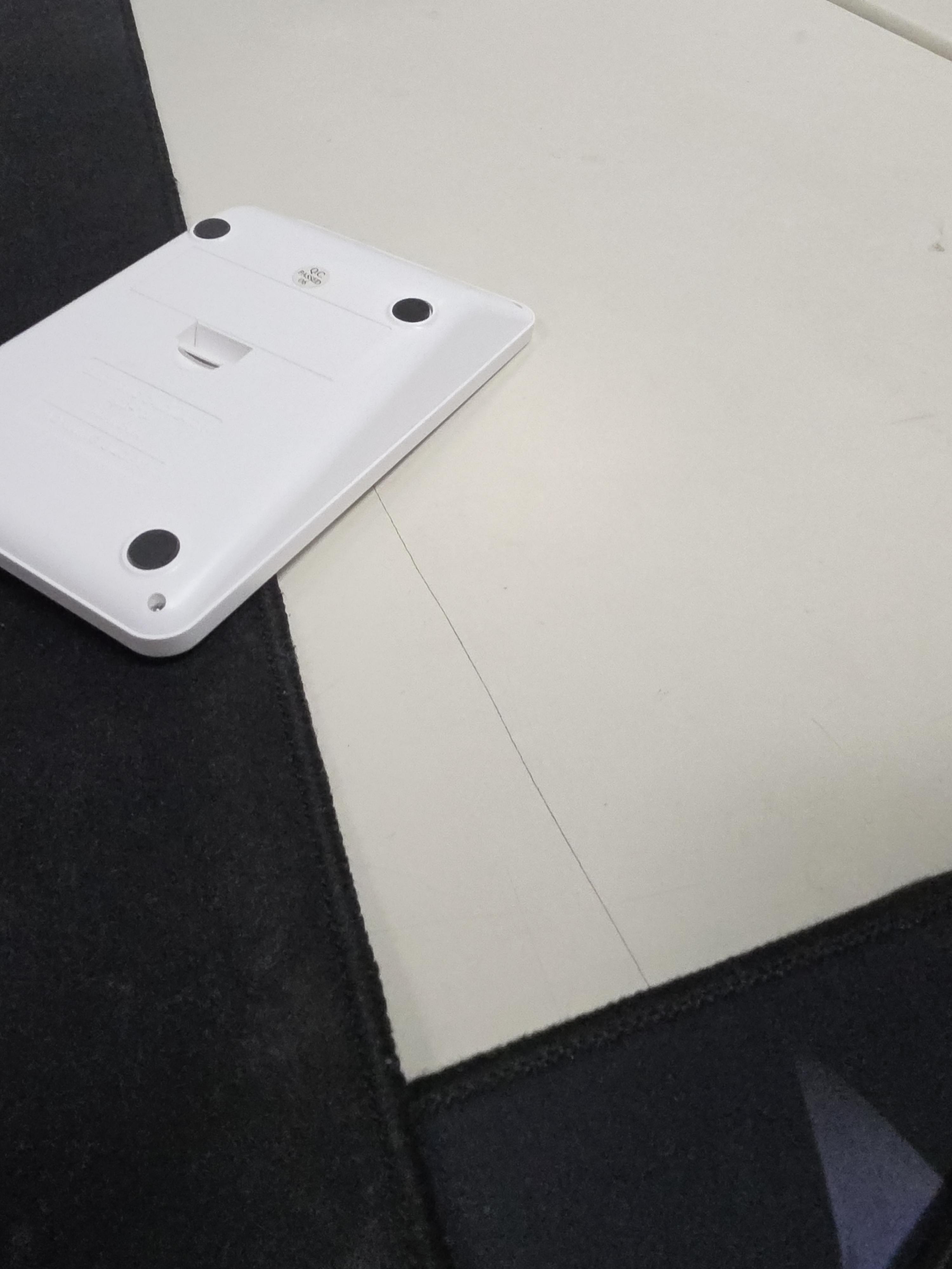calculator: (0, 205, 536, 657)
